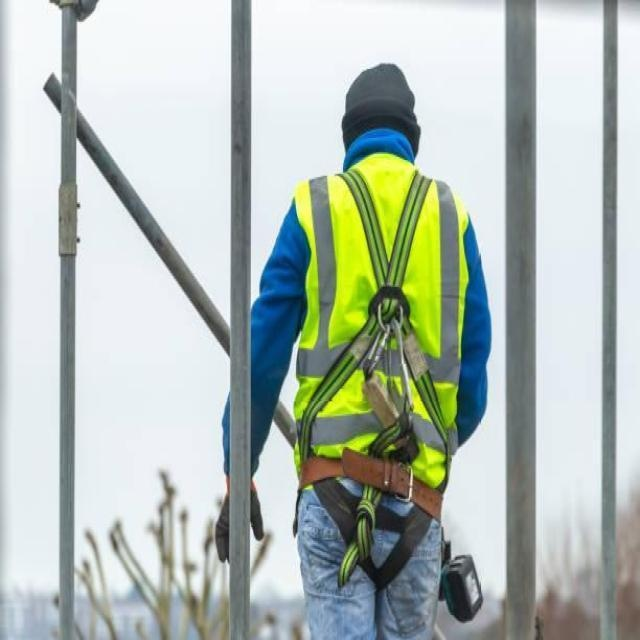Arnes_seguridad: (299, 175, 454, 582)
